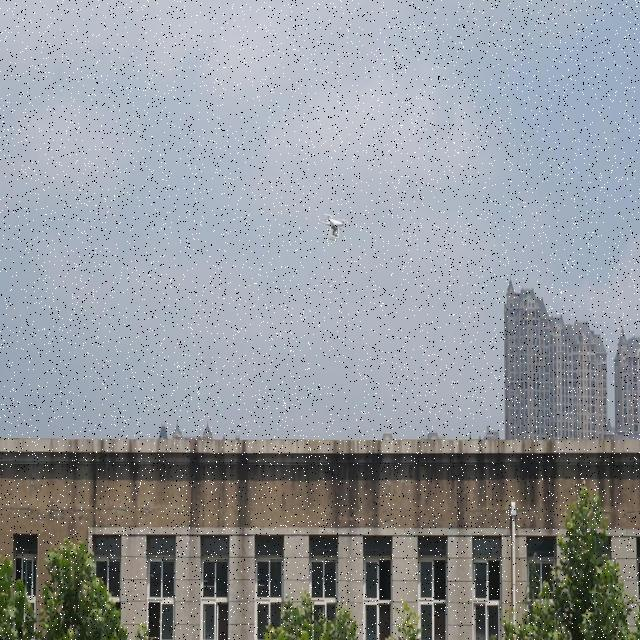UAV: (321, 213, 346, 241)
